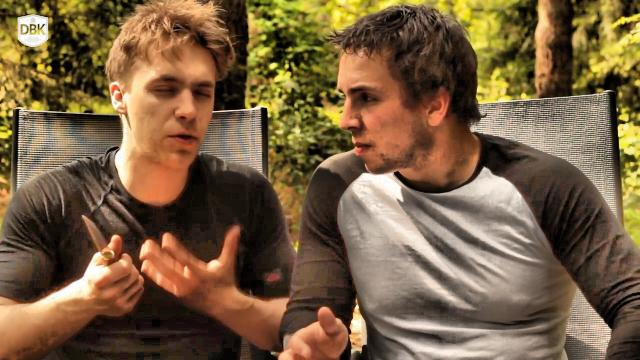knife: (70, 206, 144, 292)
